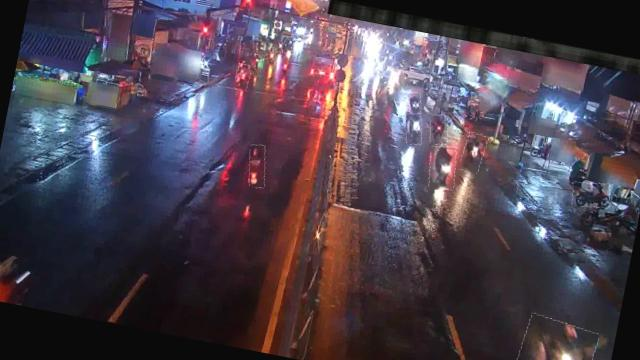Bike: (507, 313, 598, 360), (424, 144, 460, 192), (571, 178, 612, 210), (244, 143, 271, 189), (459, 131, 487, 174), (402, 109, 426, 146), (427, 113, 451, 146), (232, 63, 252, 92), (406, 90, 424, 114), (278, 52, 293, 76), (252, 54, 264, 72)
